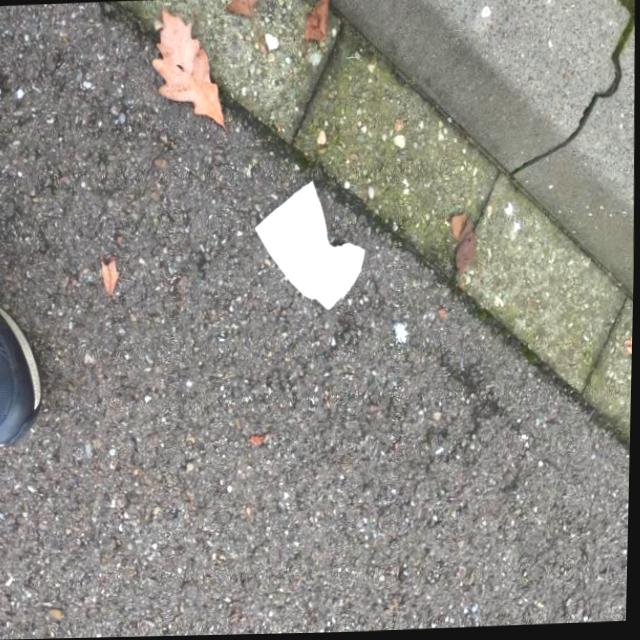Paper: (252, 177, 370, 318)
